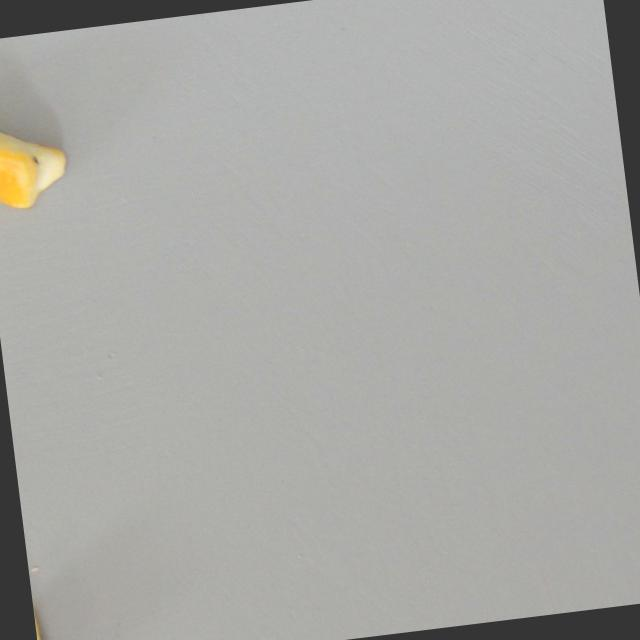pelicula: (32, 598, 65, 640)
punto_negro: (0, 106, 80, 211)
